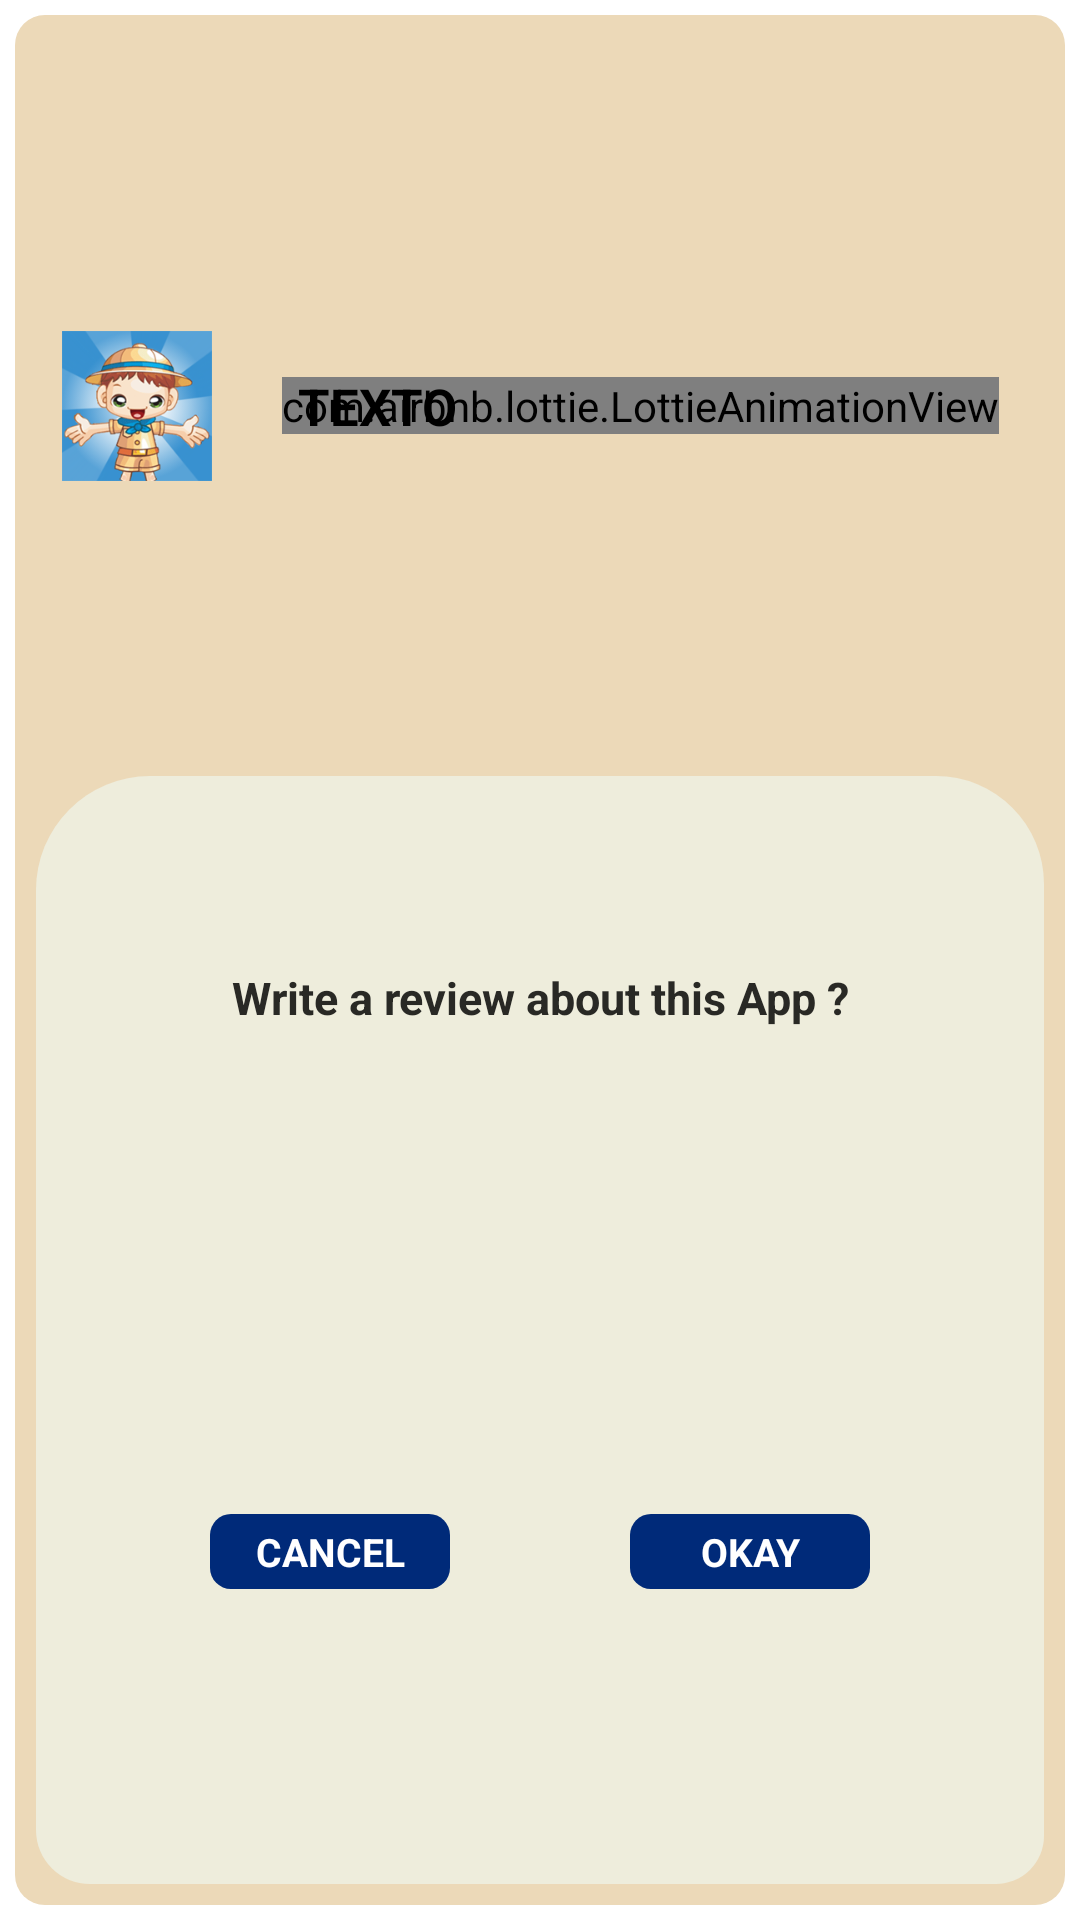

Locate icon controls on the screen. Image size 1080 x 1920, boxes as bbox=[x1, y1, x2, y2].
avata: bbox=[62, 331, 212, 481]
